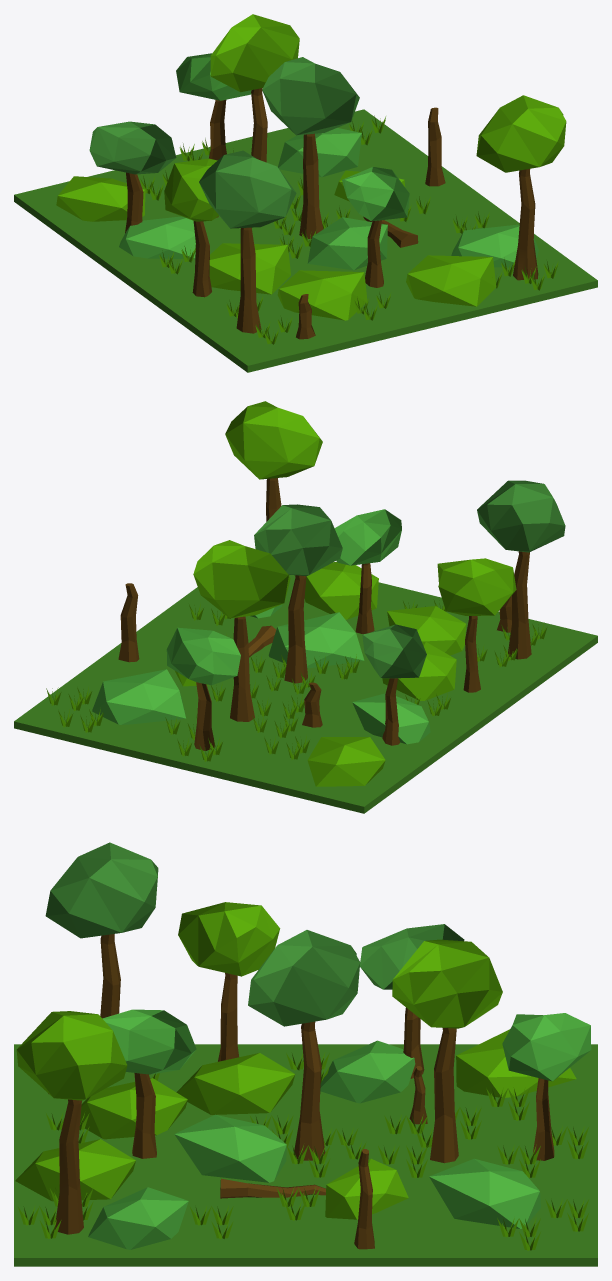
Rendered from trees1.gltf.
3 renders of one model, top to bottom at view 1: azimuth 30°, elevation 25°; view 2: azimuth 150°, elevation 25°; view 3: azimuth 270°, elevation 25°, orthographic. The views are drawn at different scales.
Visible parts, largest first — view 1: node-0; view 2: node-0; view 3: node-0.
Boxes of the visible parts, x1=… form: node-0: x1=14, y1=14, x2=597, y2=372; node-0: x1=14, y1=401, x2=597, y2=813; node-0: x1=14, y1=842, x2=597, y2=1266.
Bounding box in the file's own units: 461 × 224 × 533.
